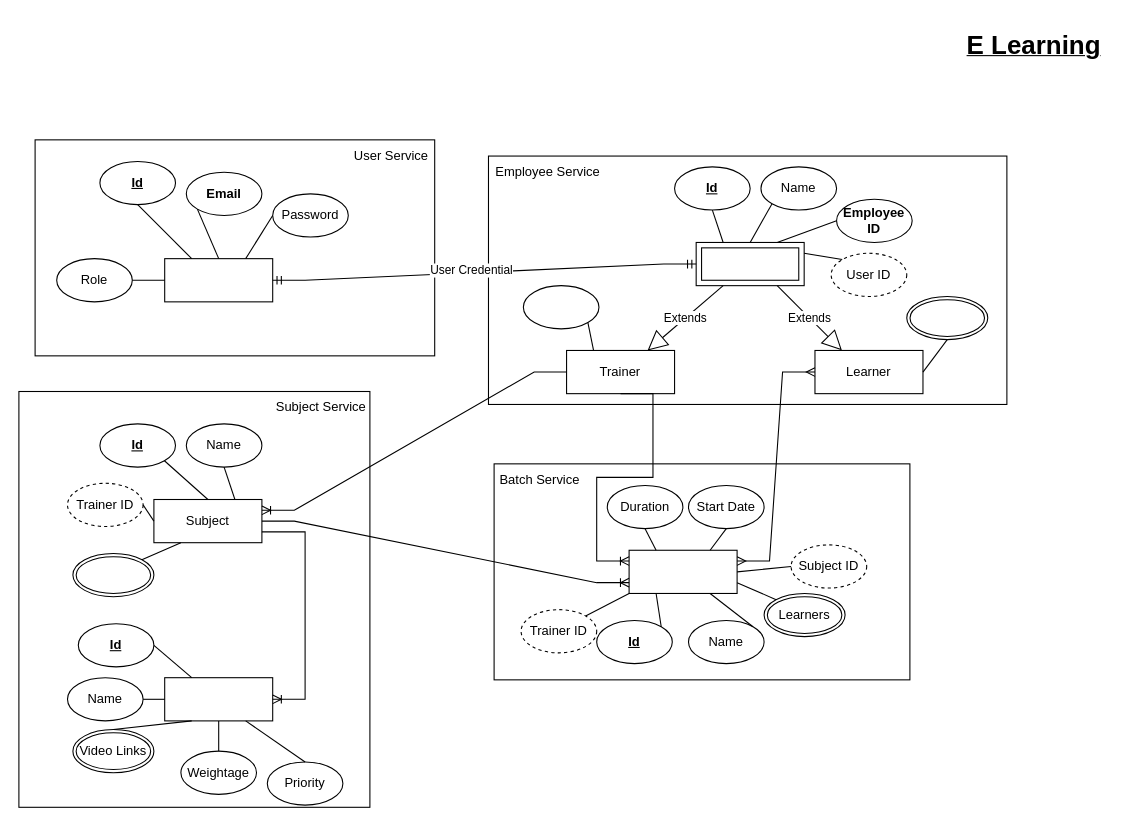
Some shapes in this 1123 by 826 pixel diagram are drawn without their labels. The shapes that lost their labels are listed below. From the top down, each one's centre as x and y in pixels, then its label:
At [218,280]: "User".
At [749,263]: "Employee".
At [560,307]: "Domain".
At [947,317]: "Batches".
At [113,574]: "Topic IDs".
At [682,571]: "Batch".
At [218,699]: "Topic".
